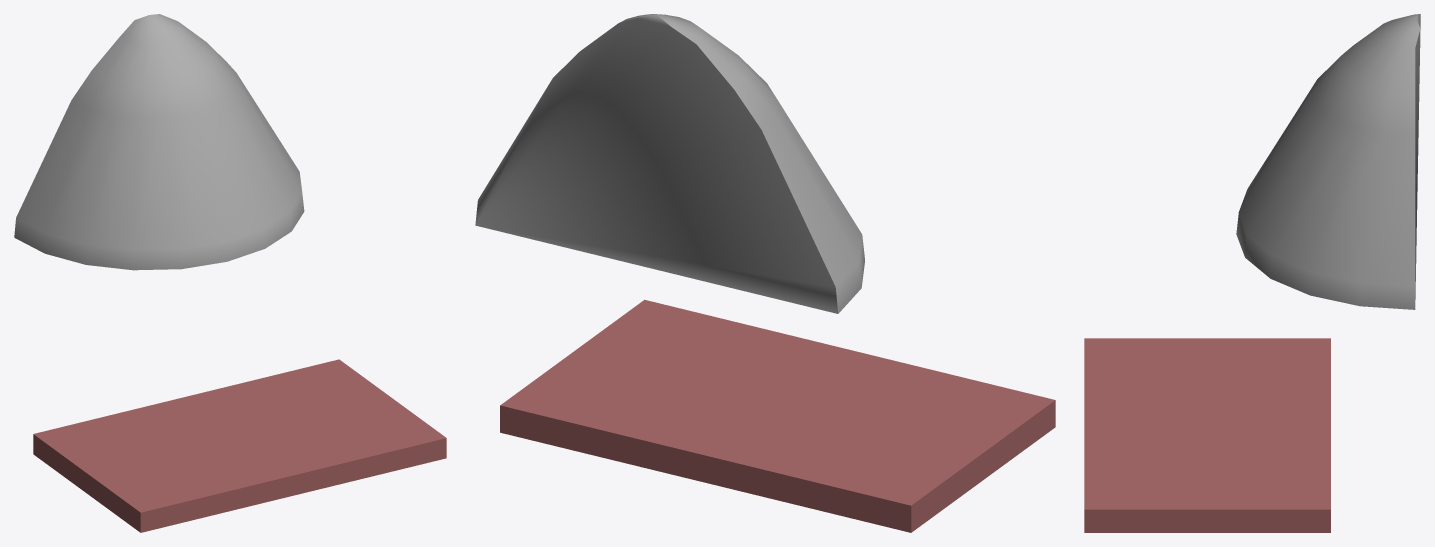
Rendered from RowLight.fbx.
The picture shows the model from 3 angles, left to right: view 1: azimuth 30°, elevation 25°; view 2: azimuth 150°, elevation 25°; view 3: azimuth 270°, elevation 25°; orthographic projection. The views are drawn at different scales.
Parts seen in each view (by area): view 1: pCube2; view 2: pCube2; view 3: pCube2.
Boxes of the visible parts, box(x1,y1,x2,y2) form: pCube2: box(14, 14, 446, 532); pCube2: box(475, 14, 1055, 532); pCube2: box(1084, 14, 1420, 532).
Size of the model in its own units: 2.04 by 2.39 by 1.69.
